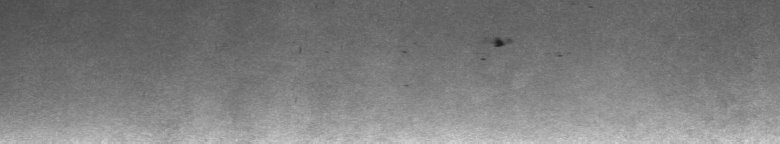fi: (481, 36, 512, 60)
